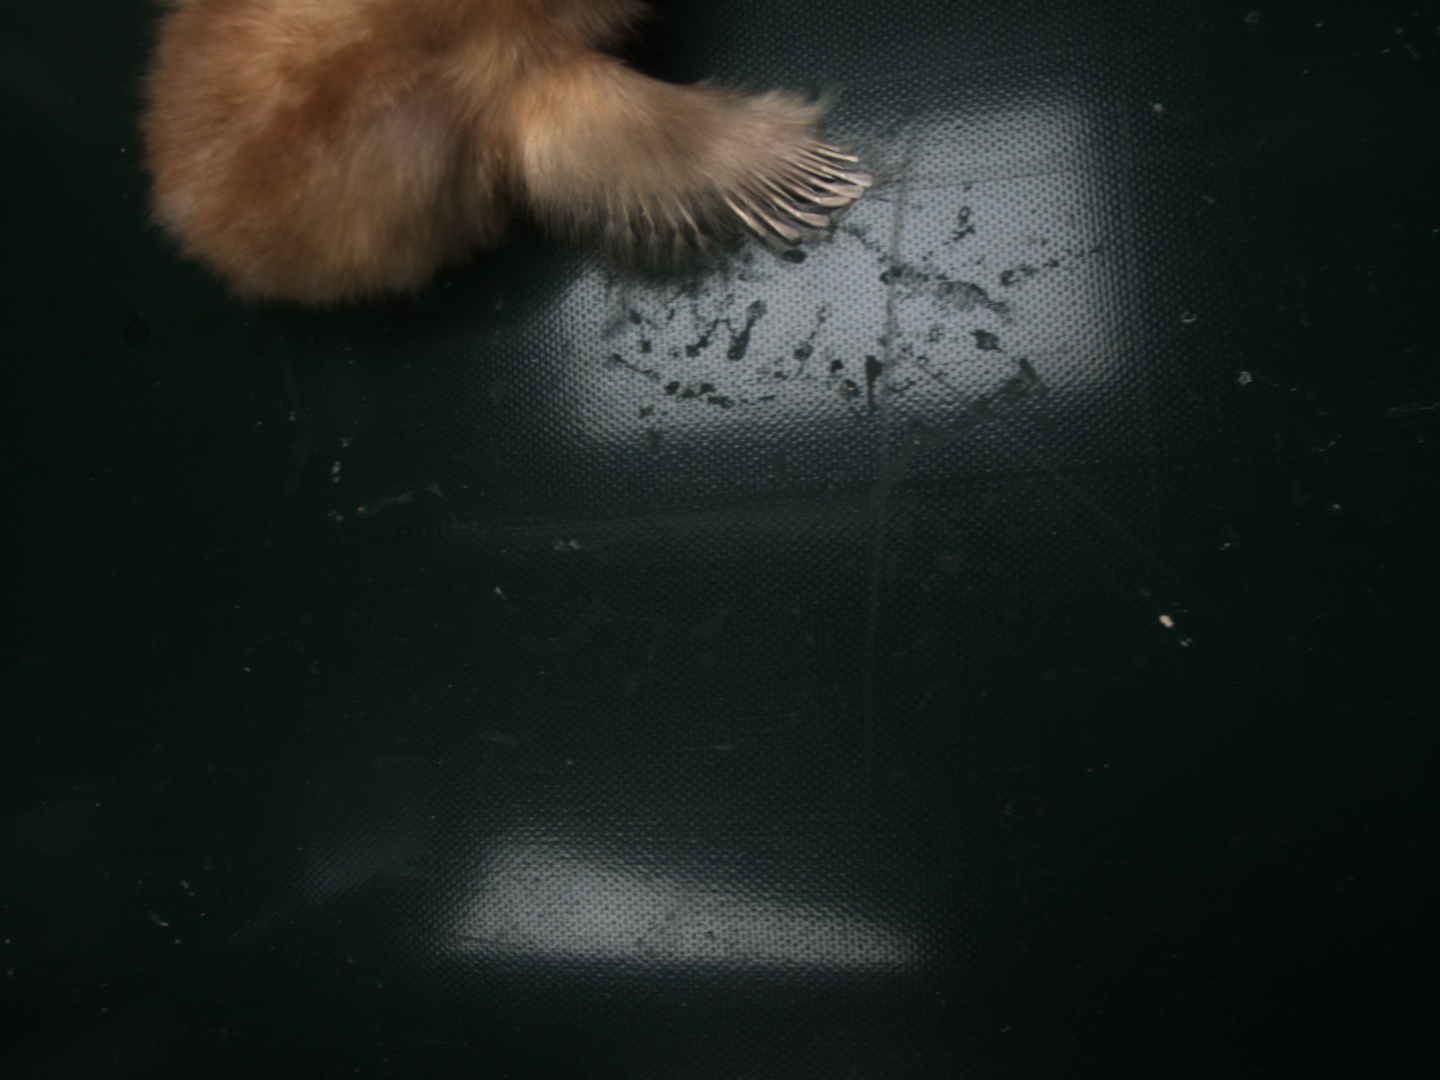female: (721, 138, 873, 236)
